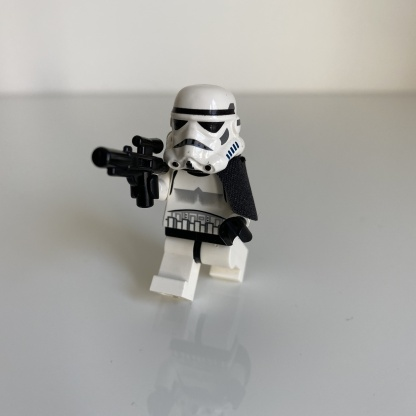sturmtruppler: (91, 83, 259, 302)
